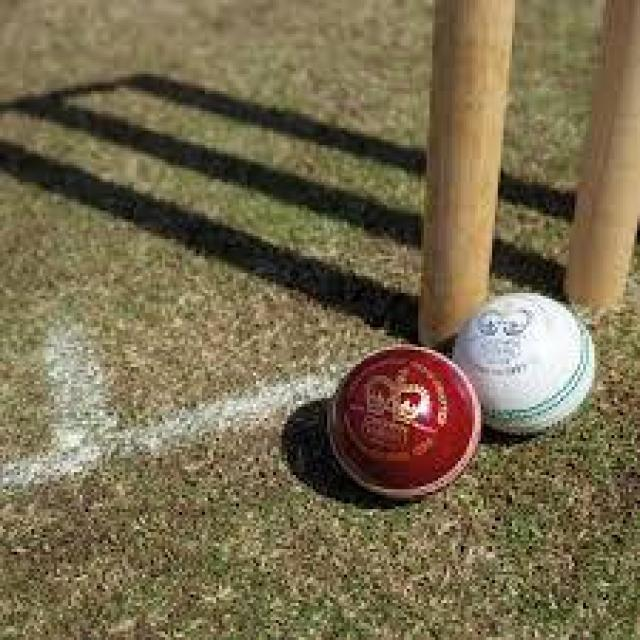ball: (321, 347, 478, 495), (455, 293, 597, 429)
